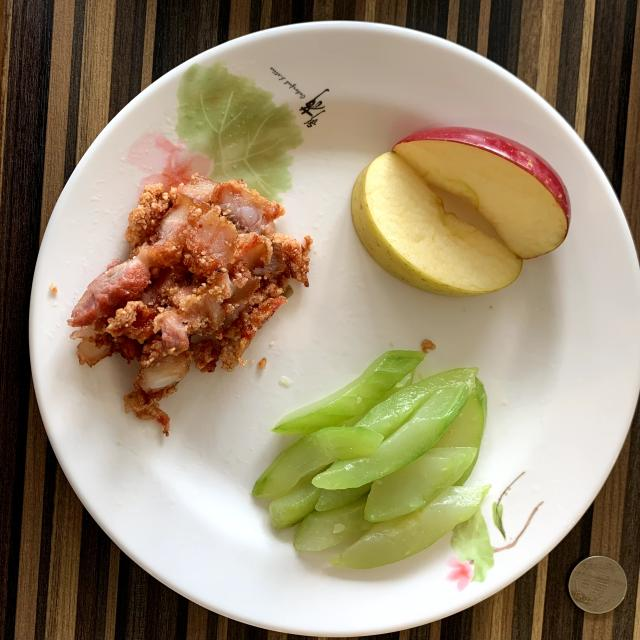apple -sliced-: (351, 128, 570, 296)
coin: (569, 556, 628, 614)
red grilled pork: (68, 175, 310, 434)
